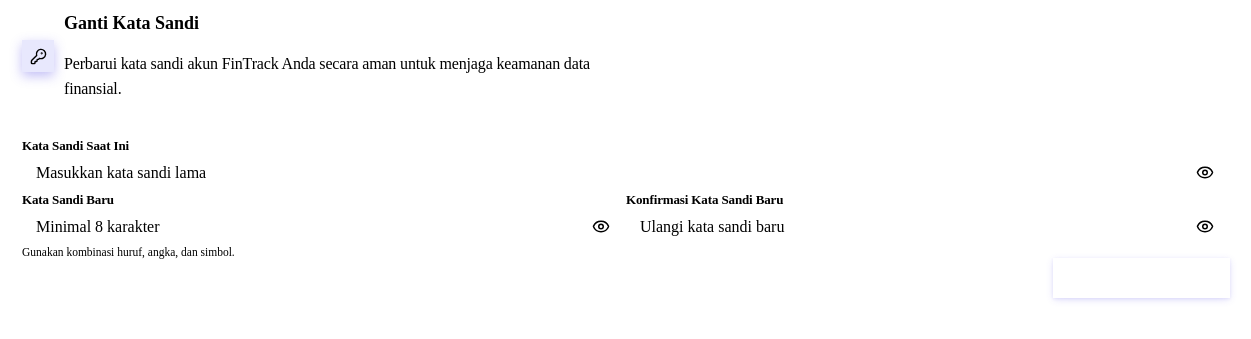
ChangePasswordCard Component › submits change password successfully and resets form
The width and height of the screenshot is (1251, 339).
Type "OldPassword123!" into the password field labelled "Kata Sandi Saat Ini" at (626, 173), box [22,154,1230,192]
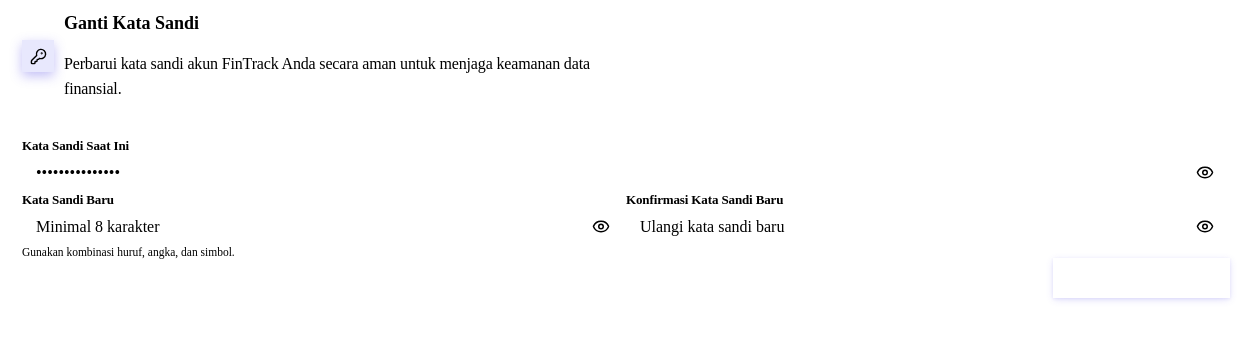
Type "NewPassword123!" into the password field labelled "Kata Sandi Baru" at (324, 227), box [22,208,626,246]
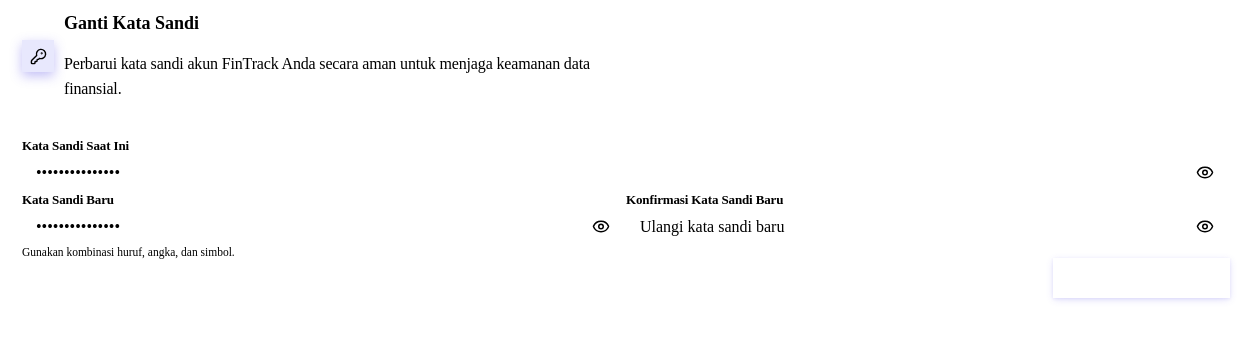
Type "NewPassword123!" into the password field labelled "Konfirmasi Kata Sandi Baru" at (928, 227), box [626,208,1230,246]
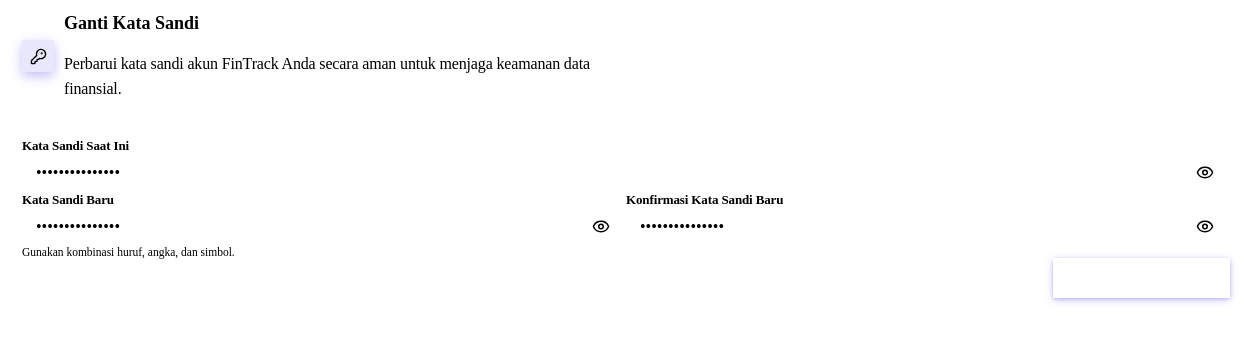
Click the button "Perbarui Kata Sandi" at (1141, 278), box [1053,258,1230,298]
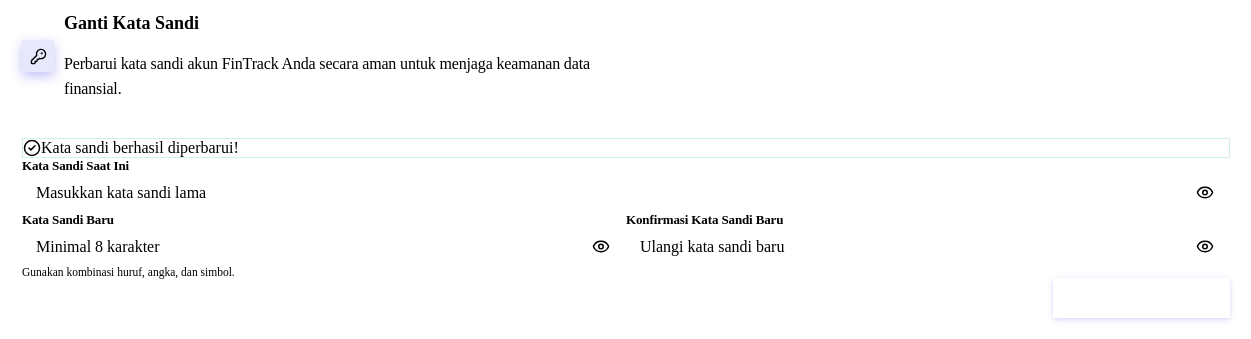
Result: the text "Kata sandi berhasil diperbarui!" is shown at [41,139,239,157]
Result: the password field labelled "Kata Sandi Saat Ini" is empty at [22,174,1230,212]
Result: the password field labelled "Kata Sandi Baru" is empty at [22,228,626,266]
